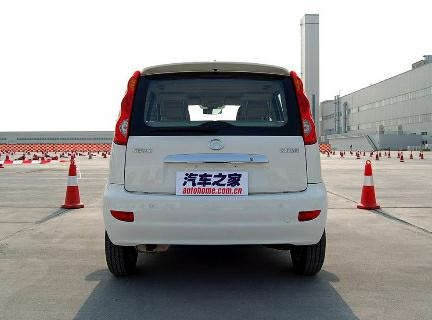长城-精灵: (99, 58, 334, 280)
